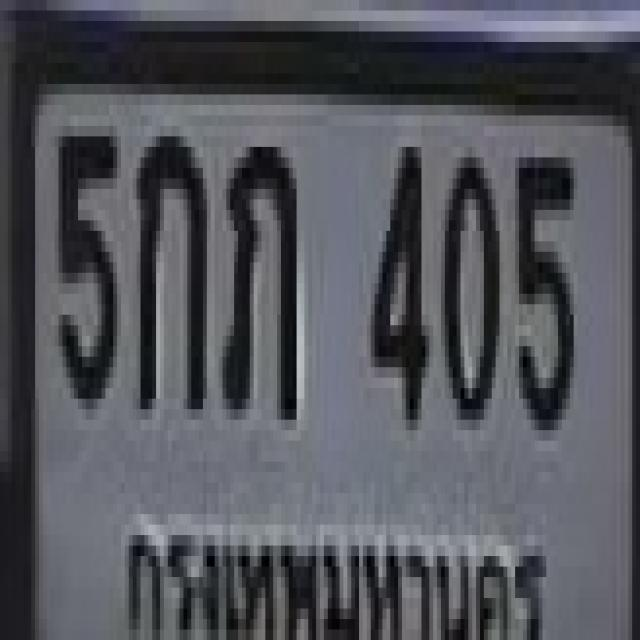0: (441, 147, 500, 423)
4: (367, 136, 425, 420)
5: (513, 148, 575, 437), (54, 126, 118, 405)
A01: (132, 126, 208, 415)
A32: (218, 136, 298, 423)
BKK: (108, 483, 556, 640)
